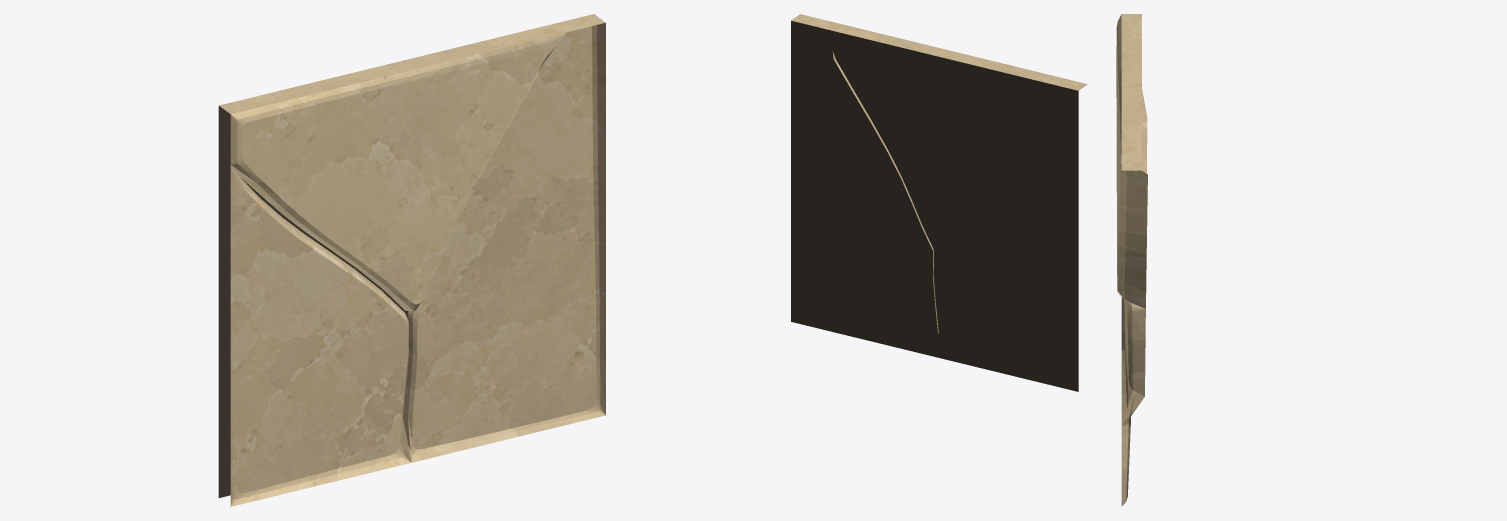
Rendered from ground_square_edge_01.glb.
The picture shows the model from 3 angles, left to right: view 1: azimuth 30°, elevation 25°; view 2: azimuth 150°, elevation 25°; view 3: azimuth 270°, elevation 25°; orthographic projection. The views are drawn at different scales.
Visible parts, largest first — view 1: GroundSquareEdge01_Body; view 2: GroundSquareEdge01_Body; view 3: GroundSquareEdge01_Body.
Part boxes in pixels (bbox=[...]): GroundSquareEdge01_Body: bbox=[218, 14, 605, 506]; GroundSquareEdge01_Body: bbox=[791, 14, 1087, 391]; GroundSquareEdge01_Body: bbox=[1116, 14, 1147, 506].
Size of the model in its own units: 1 by 1 by 1.01.
5 materials, 4 textured.
